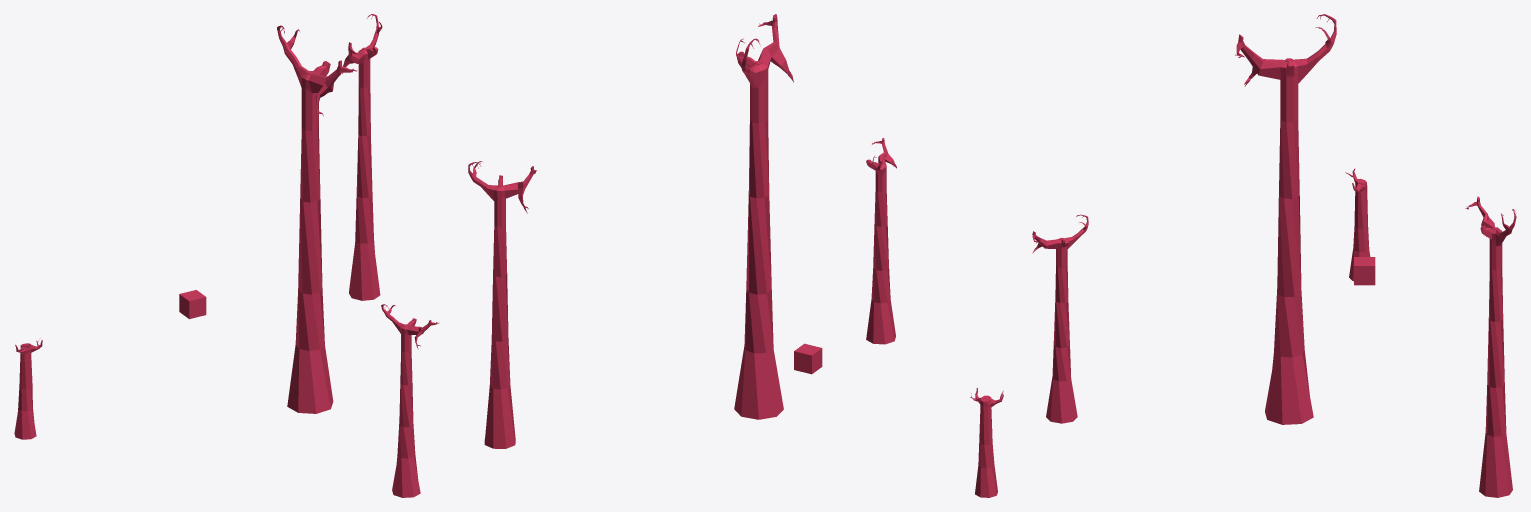
The model's file is treeRoots.fbx.
3 renders of one model, left to right at view 1: azimuth 30°, elevation 25°; view 2: azimuth 150°, elevation 25°; view 3: azimuth 270°, elevation 25°, orthographic. The views are drawn at different scales.
Visible parts, largest first — view 1: tree roots 4, tree roots 3, tree roots 2, tree roots 1, Cube; view 2: tree roots 4, tree roots 3, tree roots 2, tree roots 1, Cube; view 3: tree roots 4, tree roots 3, tree roots 2, tree roots 1, Cube.
Boxes of the visible parts, x1,y1,x2,y2 form: tree roots 4: (277,25,357,413); tree roots 3: (339,14,382,300); tree roots 2: (381,304,439,497); tree roots 1: (14,338,42,439); Cube: (179,290,206,319); tree roots 4: (734,14,793,419); tree roots 3: (468,161,536,448); tree roots 2: (866,138,896,344); tree roots 1: (970,388,1003,497); Cube: (794,343,822,374); tree roots 4: (1235,14,1336,424); tree roots 3: (1465,196,1516,497); tree roots 2: (1032,214,1088,423); tree roots 1: (1345,168,1370,281); Cube: (1354,257,1375,285).
Bounding box in the file's own units: 1679 × 1380 × 1506.
